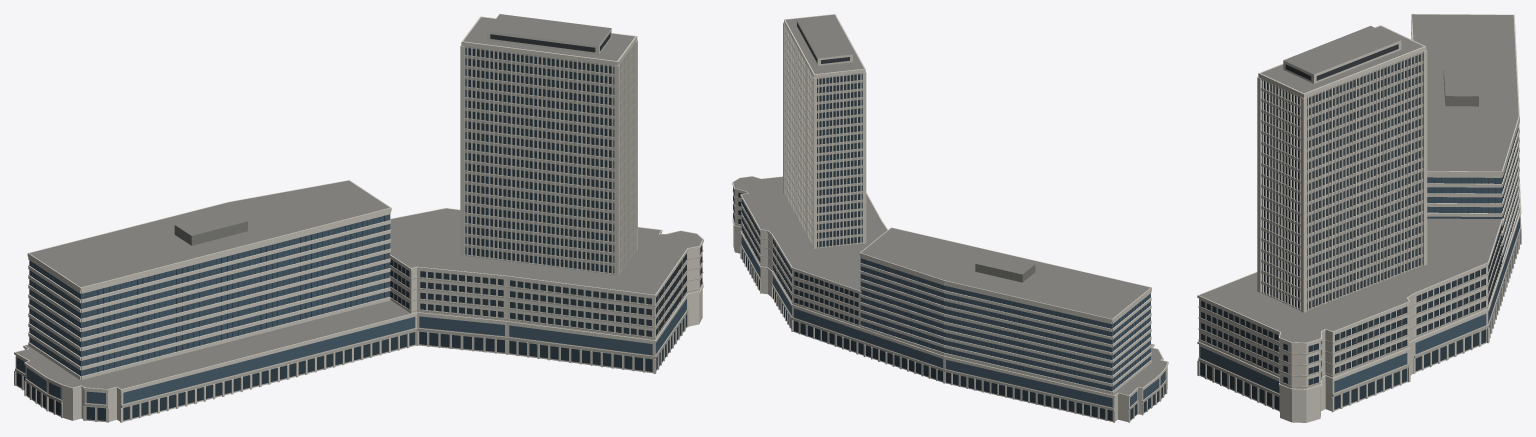
Rendered from hilton_london_metropole.glb.
3 renders of one model, left to right at view 1: azimuth 30°, elevation 25°; view 2: azimuth 150°, elevation 25°; view 3: azimuth 270°, elevation 25°, orthographic. The views are drawn at different scales.
Size of the model in its own units: 186 by 91.79 by 86.7.
